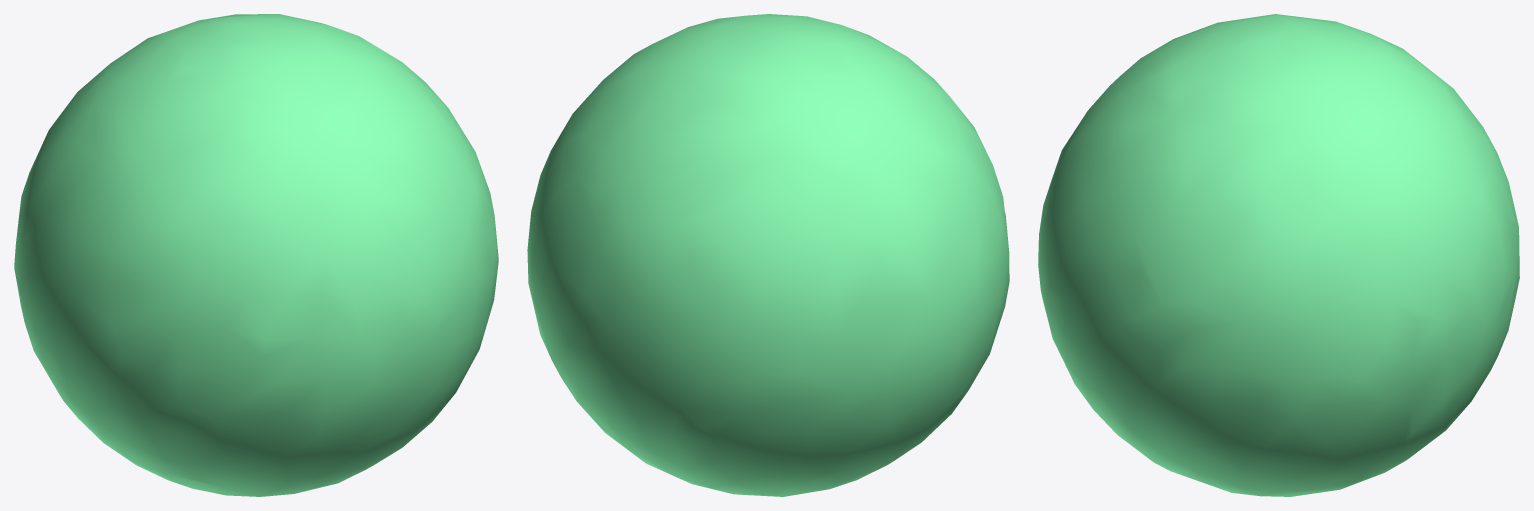
File: algea.fbx
3 views of the same model, side by side, from view 1: azimuth 30°, elevation 25°; view 2: azimuth 150°, elevation 25°; view 3: azimuth 270°, elevation 25° (orthographic).
Visible parts, largest first — view 1: ALGAE (GE-25501); view 2: ALGAE (GE-25501); view 3: ALGAE (GE-25501).
Boxes of the visible parts, left/top/right/bottom form: ALGAE (GE-25501): left=14, top=14, right=498, bottom=496; ALGAE (GE-25501): left=527, top=14, right=1009, bottom=496; ALGAE (GE-25501): left=1038, top=14, right=1519, bottom=496.
Size of the model in its own units: 40.67 by 40.67 by 40.62.
